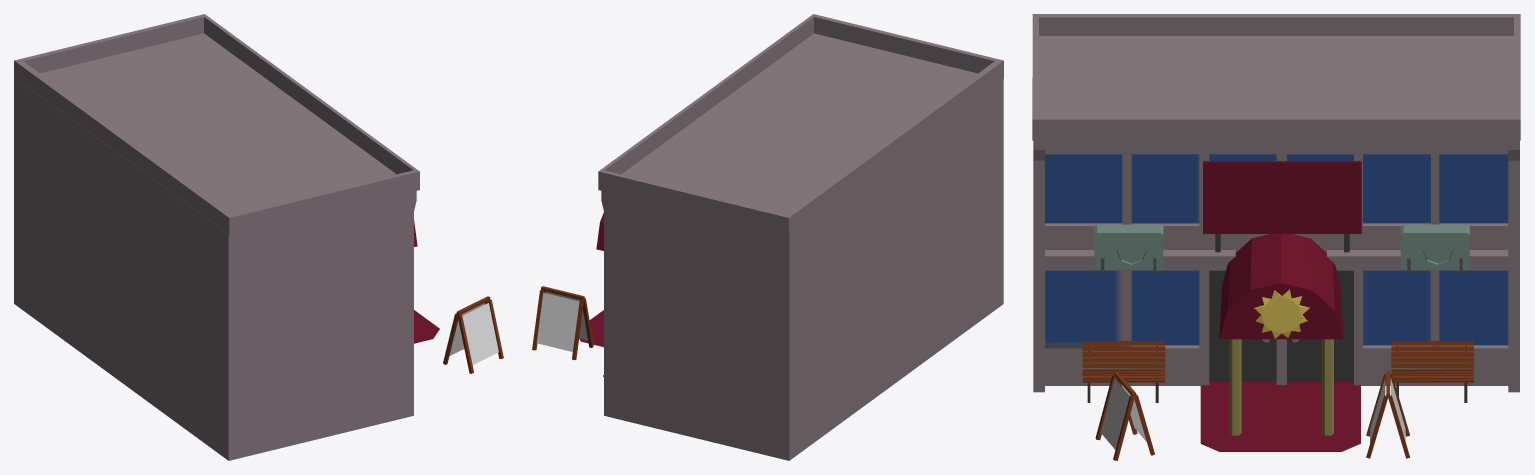
File: School in tokyo2 .obj
3 views of the same model, side by side, from view 1: azimuth 30°, elevation 25°; view 2: azimuth 150°, elevation 25°; view 3: azimuth 270°, elevation 25° (orthographic). The views are drawn at different scales.
Visible parts, largest first — view 1: School, Signboard; view 2: School, Signboard.001; view 3: School, Bench.001, Bench, Air_conditioner.001, Air_conditioner, Signboard, Signboard.001.
Boxes of the visible parts, x1,y1,x2,y2 form: School: (14,14,439,460); Signboard: (443,296,503,373); School: (579,14,1003,460); Signboard.001: (532,286,593,360); School: (1032,14,1520,451); Bench.001: (1391,341,1473,402); Bench: (1082,341,1165,402); Air_conditioner.001: (1400,224,1469,273); Air_conditioner: (1094,224,1163,273); Signboard: (1095,371,1154,460); Signboard.001: (1366,370,1409,458).
Bounding box in the file's own units: 35.02 × 26.17 × 41.98.
Materials: 1 (1 with a texture image).
